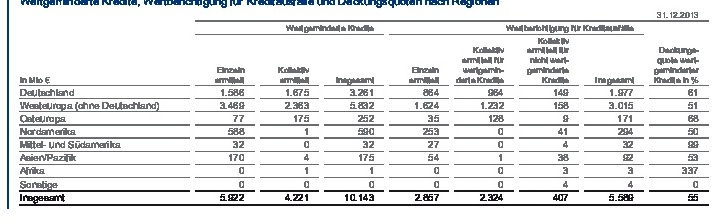table: (0, 0, 727, 221)
